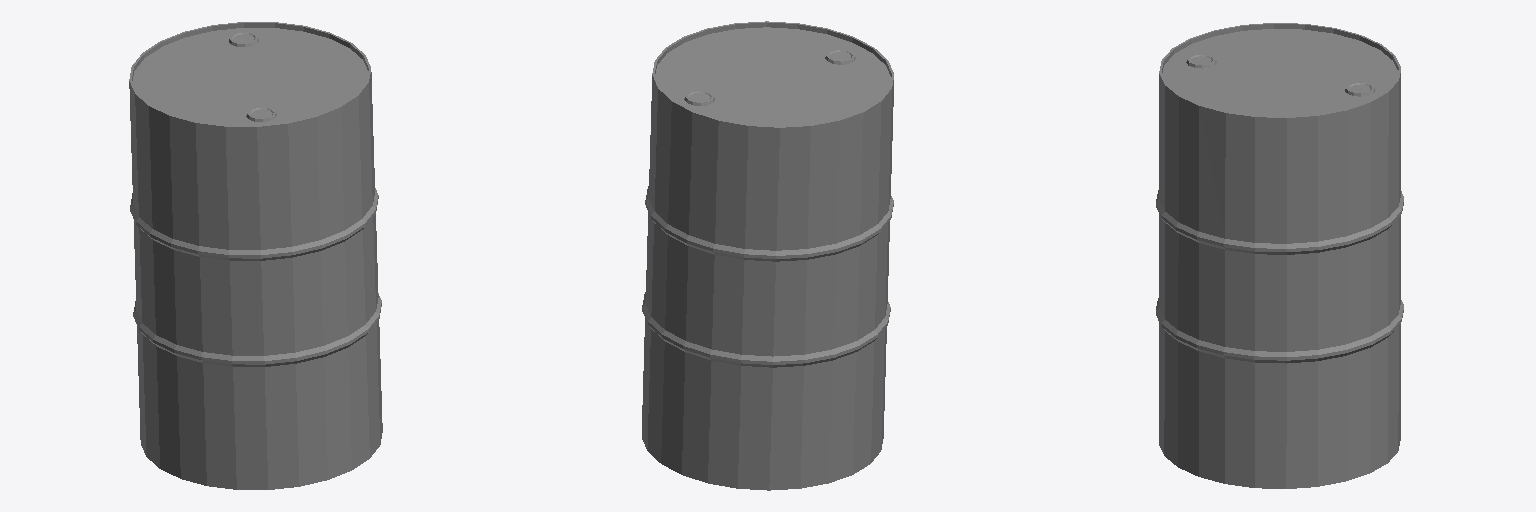
File: barrel.obj
3 views of the same model, side by side, from view 1: azimuth 30°, elevation 25°; view 2: azimuth 150°, elevation 25°; view 3: azimuth 270°, elevation 25° (orthographic).
Visible parts, largest first — view 1: Mesh_0104; view 2: Mesh_0104; view 3: Mesh_0104.
Boxes of the visible parts, box(x1,y1,x2,y2) form: Mesh_0104: box(129, 22, 382, 489); Mesh_0104: box(642, 21, 893, 490); Mesh_0104: box(1156, 23, 1403, 488).
Size of the model in its own units: 79.22 by 128 by 77.35.